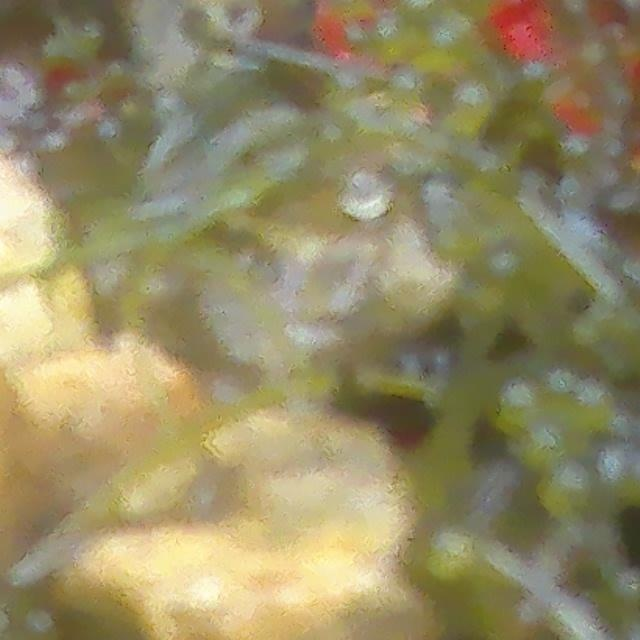SeaGrape: (339, 170, 390, 222)
